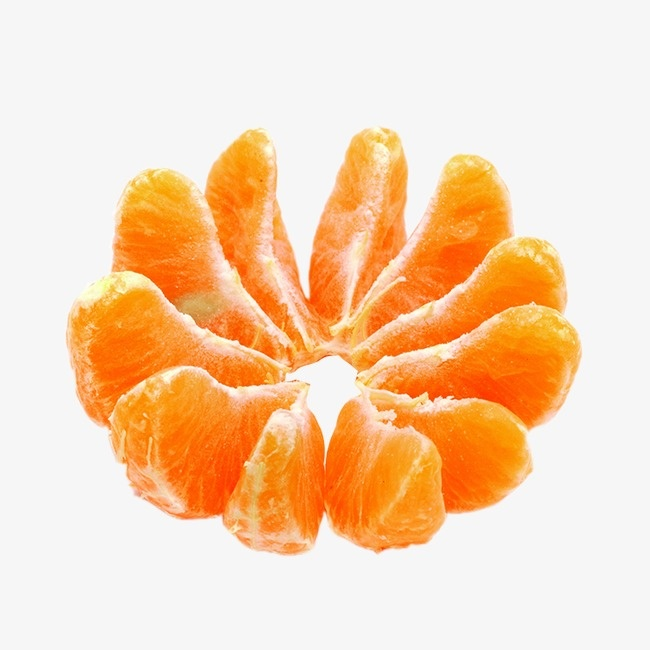mandarin: (110, 168, 294, 370), (69, 273, 273, 430), (358, 151, 512, 345), (110, 365, 299, 514), (209, 128, 327, 357), (365, 306, 580, 430), (353, 239, 564, 365), (369, 390, 533, 512), (329, 399, 443, 552), (311, 123, 400, 317), (226, 401, 329, 552)
